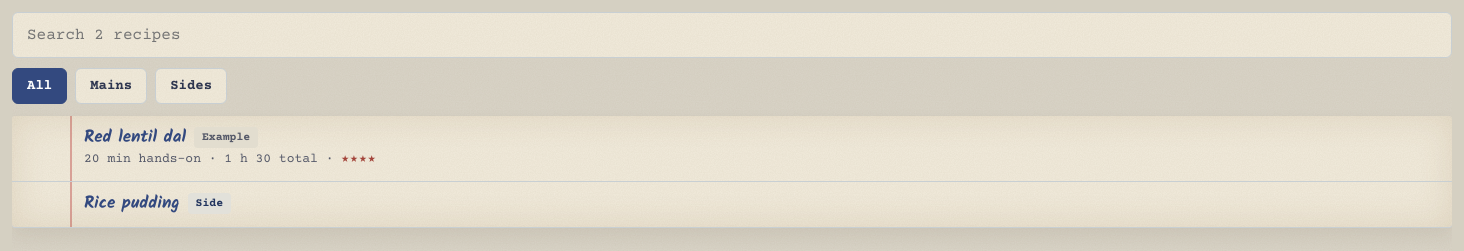
Test: Recipe list › searches by name, tag and ingredient
This screenshot has width=1464, height=251.
Type "VEGETARIAN" into the search field named "Search recipes" at (732, 35), box [12,12,1452,58]
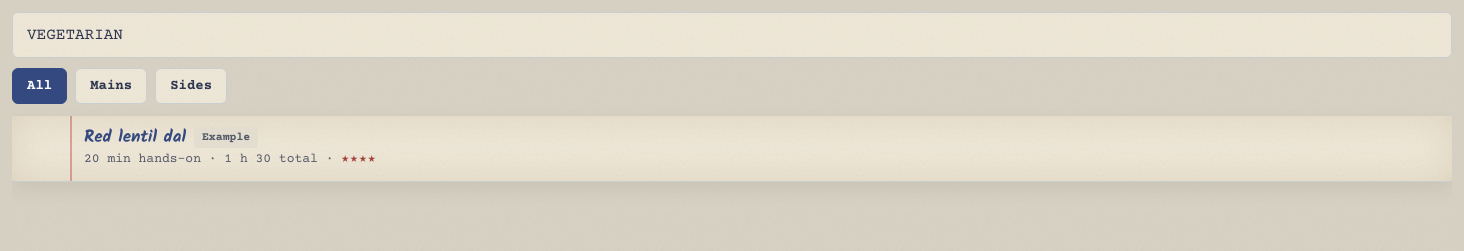
Replace the text in the search field named "Search recipes" with "jasmine" at (732, 35), box [12,12,1452,58]
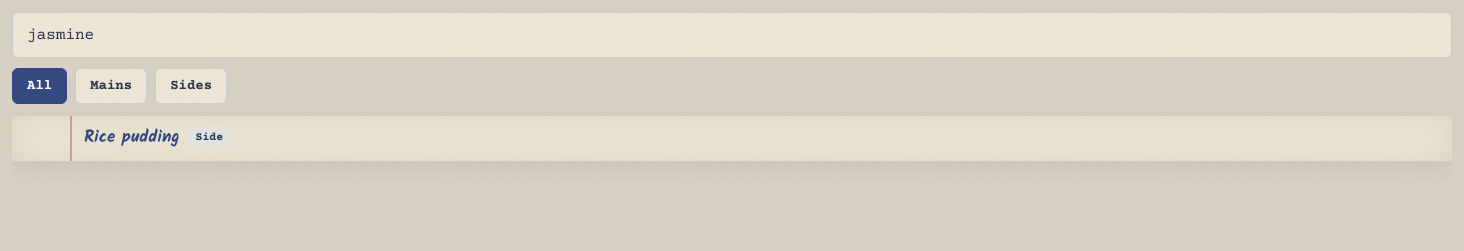
Replace the text in the search field named "Search recipes" with "pizza" at (732, 35), box [12,12,1452,58]
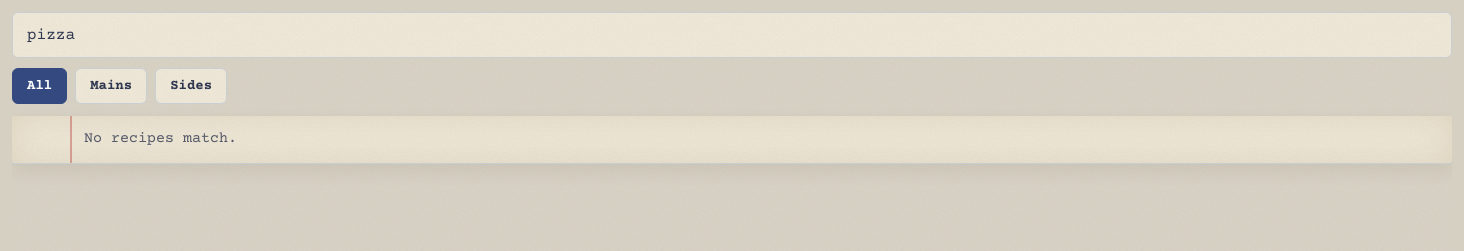
Result: the text "No recipes match." is shown at [84,130,237,147]
